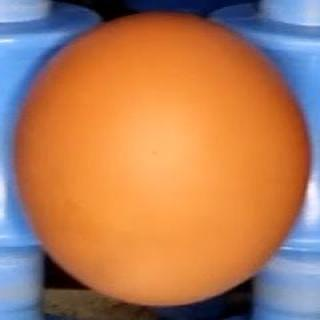Telur: (13, 10, 310, 310)
